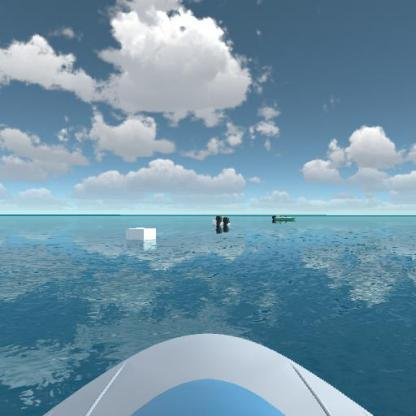usv0: (270, 208, 298, 227)
usv1: (212, 214, 234, 229)
